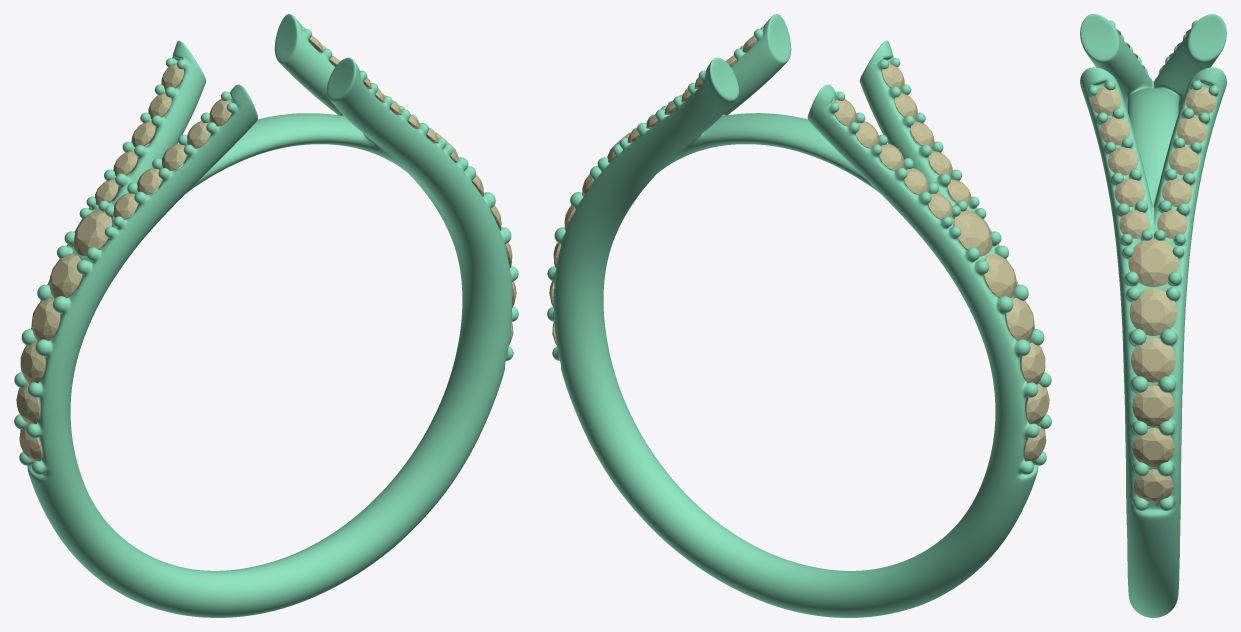
The picture shows the model from 3 angles, left to right: view 1: azimuth 30°, elevation 25°; view 2: azimuth 150°, elevation 25°; view 3: azimuth 270°, elevation 25°; orthographic projection.
Parts seen in each view (by area): view 1: Metal02, Diamond_Gem.027, Diamond_Gem.028, Diamond_Gem.029, Diamond_Gem.031, Diamond_Gem.030; view 2: Metal02, Diamond_Gem.027, Diamond_Gem.028, Diamond_Gem.029, Diamond_Gem.031, Diamond_Gem.030; view 3: Metal02, Diamond_Gem.004, Diamond_Gem.003, Diamond_Gem.002, Diamond_Gem, Diamond_Gem.001, Diamond_Gem.005, Diamond_Gem.010, Diamond_Gem.011, Diamond_Gem.012, Diamond_Gem.009, Diamond_Gem.007 (+5 smaller).
Part boxes in pixels (x1,y1,x2,y2): Metal02: [14, 14, 518, 617]; Diamond_Gem.027: [73, 210, 112, 256]; Diamond_Gem.028: [49, 253, 82, 298]; Diamond_Gem.029: [31, 297, 60, 341]; Diamond_Gem.031: [20, 342, 45, 383]; Diamond_Gem.030: [16, 383, 40, 424]; Metal02: [547, 14, 1051, 617]; Diamond_Gem.027: [953, 210, 992, 256]; Diamond_Gem.028: [983, 253, 1016, 298]; Diamond_Gem.029: [1005, 297, 1034, 341]; Diamond_Gem.031: [1020, 342, 1045, 383]; Diamond_Gem.030: [1025, 383, 1049, 424]; Metal02: [1080, 14, 1226, 617]; Diamond_Gem.004: [1128, 238, 1178, 287]; Diamond_Gem.003: [1129, 288, 1177, 335]; Diamond_Gem.002: [1131, 337, 1175, 382]; Diamond_Gem: [1132, 385, 1174, 426]; Diamond_Gem.001: [1132, 428, 1174, 466]; Diamond_Gem.005: [1134, 469, 1173, 502]; Diamond_Gem.010: [1108, 147, 1138, 175]; Diamond_Gem.011: [1168, 147, 1198, 175]; Diamond_Gem.012: [1162, 178, 1192, 206]; Diamond_Gem.009: [1114, 178, 1144, 206]; Diamond_Gem.007: [1099, 116, 1129, 145].
Size of the model in its own units: 21.15 by 23.06 by 5.56.
